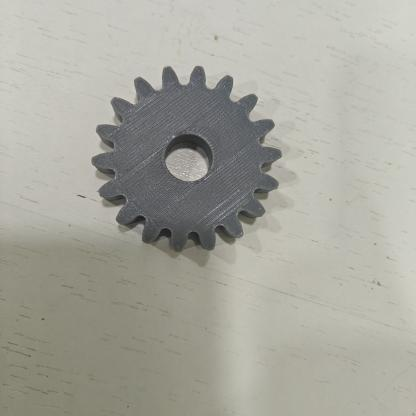gear: (71, 60, 303, 266)
